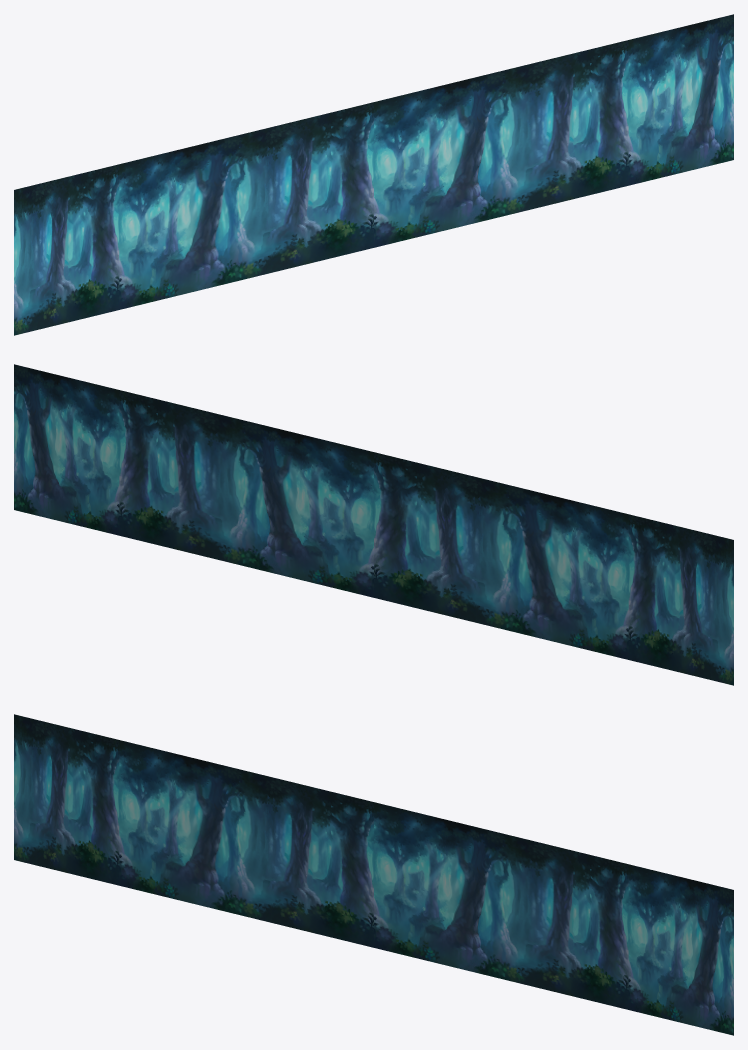
Rendered from BG001_deco_54.fbx.
3 renders of one model, top to bottom at view 1: azimuth 30°, elevation 25°; view 2: azimuth 150°, elevation 25°; view 3: azimuth 330°, elevation 25°, orthographic.
Parts seen in each view (by area): view 1: backbg_02_ms_opq; view 2: backbg_02_ms_opq; view 3: backbg_02_ms_opq.
Part boxes in pixels (x1,y1,x2,y2): backbg_02_ms_opq: [14, 14, 733, 335]; backbg_02_ms_opq: [14, 364, 733, 685]; backbg_02_ms_opq: [14, 714, 733, 1035].
Size of the model in its own units: 5616 by 1086 by 9.54e-07.
